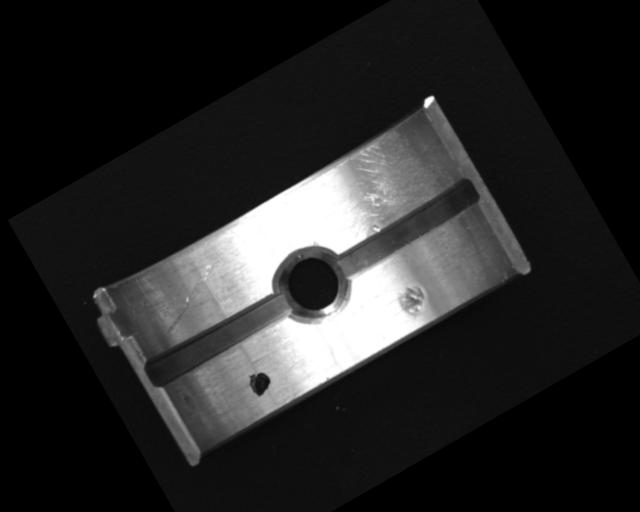blot: (244, 366, 276, 399)
bruise: (393, 280, 433, 323)
gap: (326, 173, 484, 283), (142, 288, 293, 392)
hole: (263, 234, 361, 335)
nick: (146, 261, 232, 335)
scratch: (291, 113, 459, 259)
